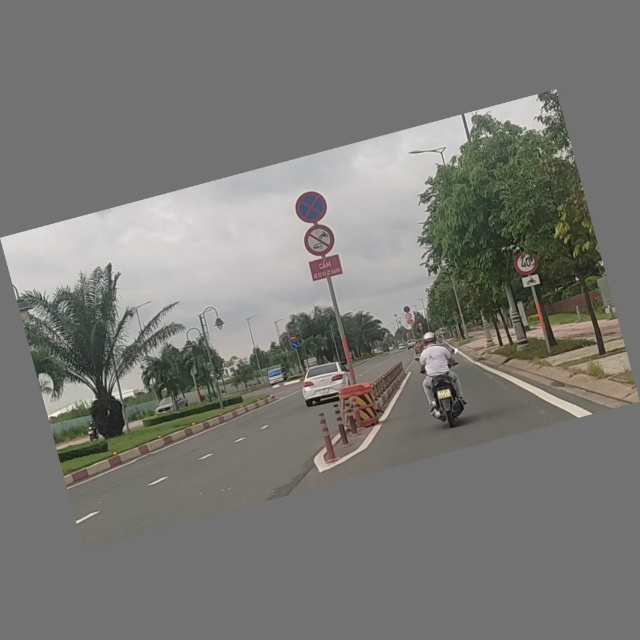P.111: (297, 220, 340, 263)
P.127*40: (512, 247, 542, 278)
P.130: (291, 186, 333, 229)
S.505a*Xe may: (517, 271, 542, 291)
